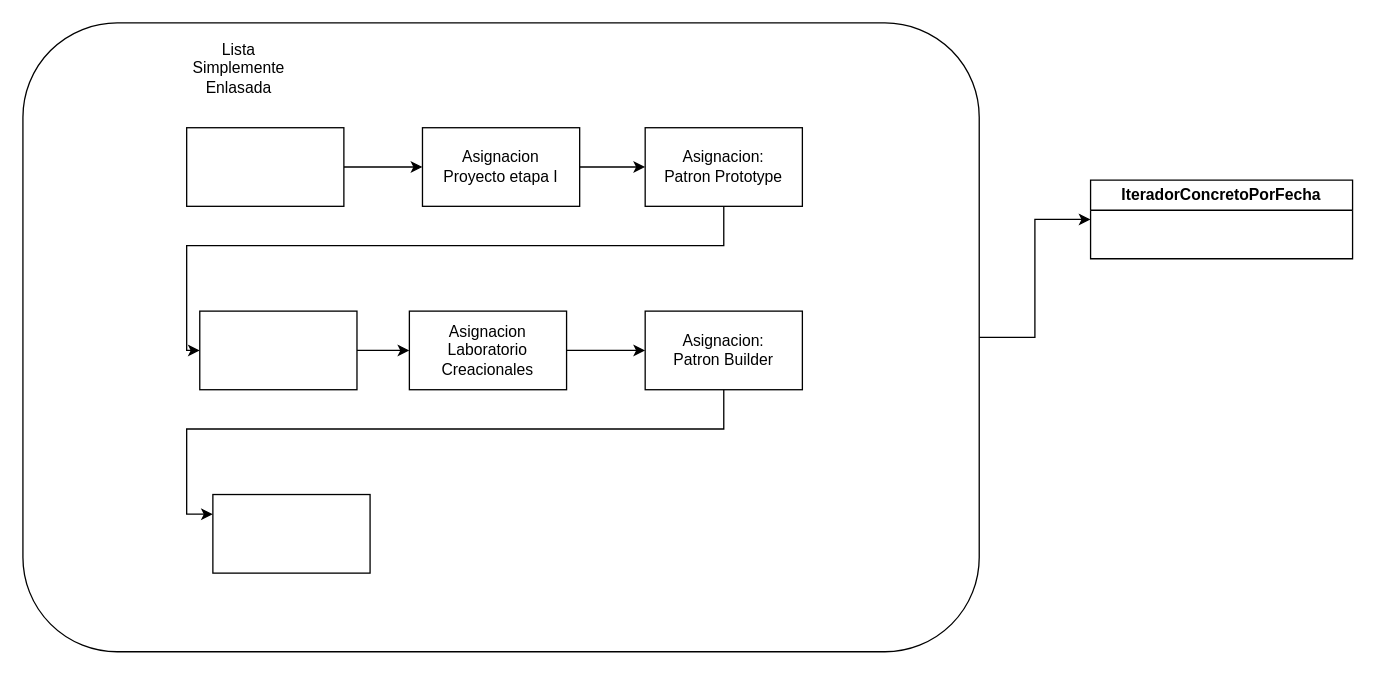
Some shapes in this 1376 by 675 pixel diagram are drawn without their labels. Each missing label, with the centre of its shape:
"Asignacion Laboratorio Comportamiento" goes at point (264, 166).
"Asignacion Proyecto etapa II" goes at point (277, 350).
"Asignacion: Proyecto etapa III" goes at point (291, 533).
